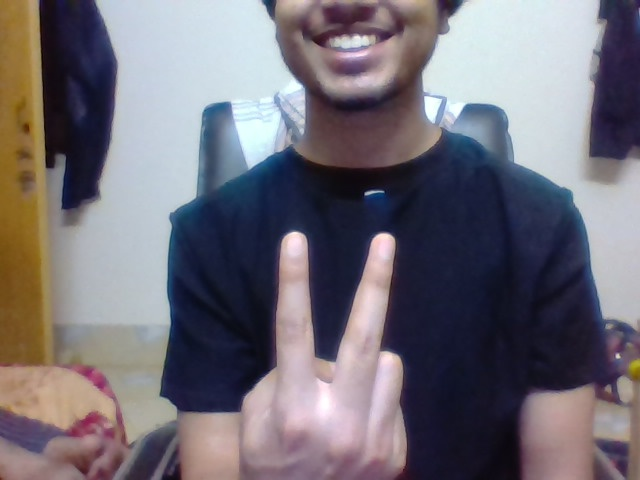V: (275, 227, 397, 374)
